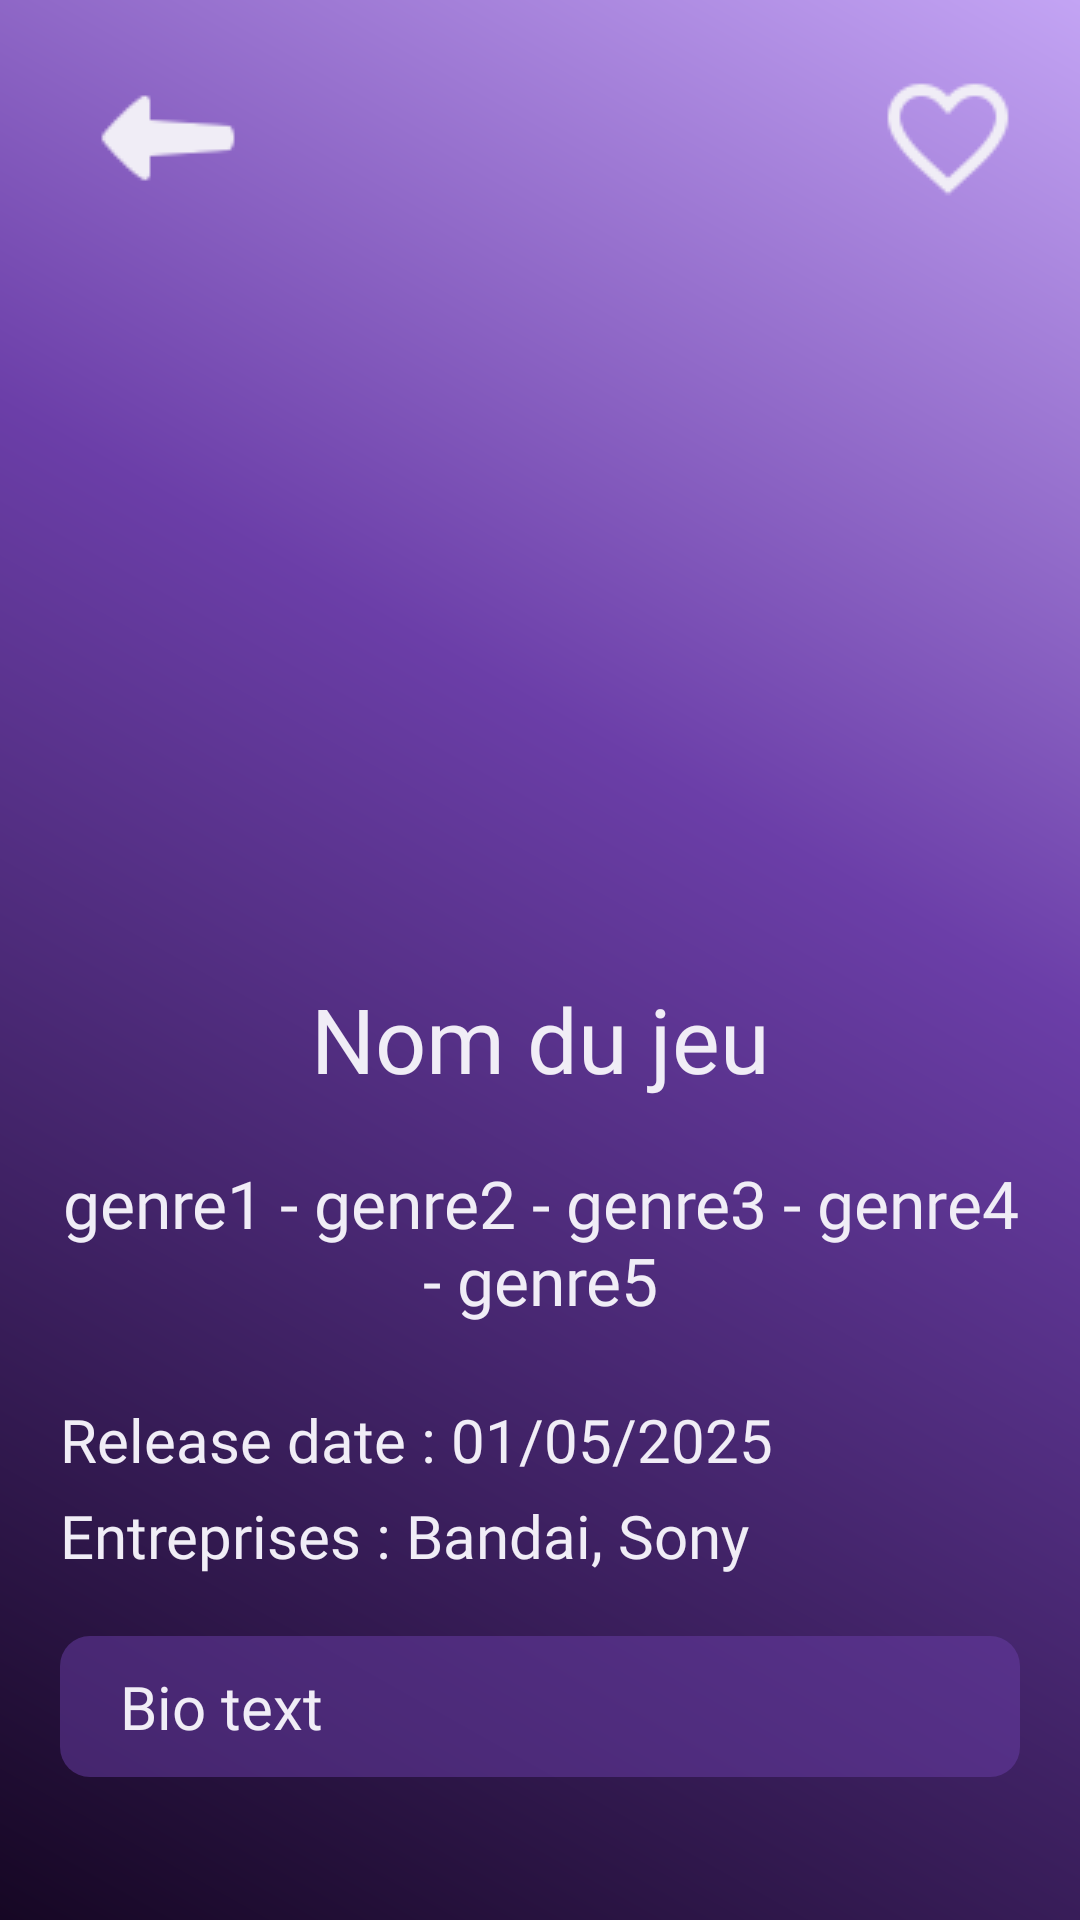

Icons on this 1080*1920 Android screen, each with the point to tap as point (x, y):
heart: point (948, 138)
Return to previous page: point (168, 138)
